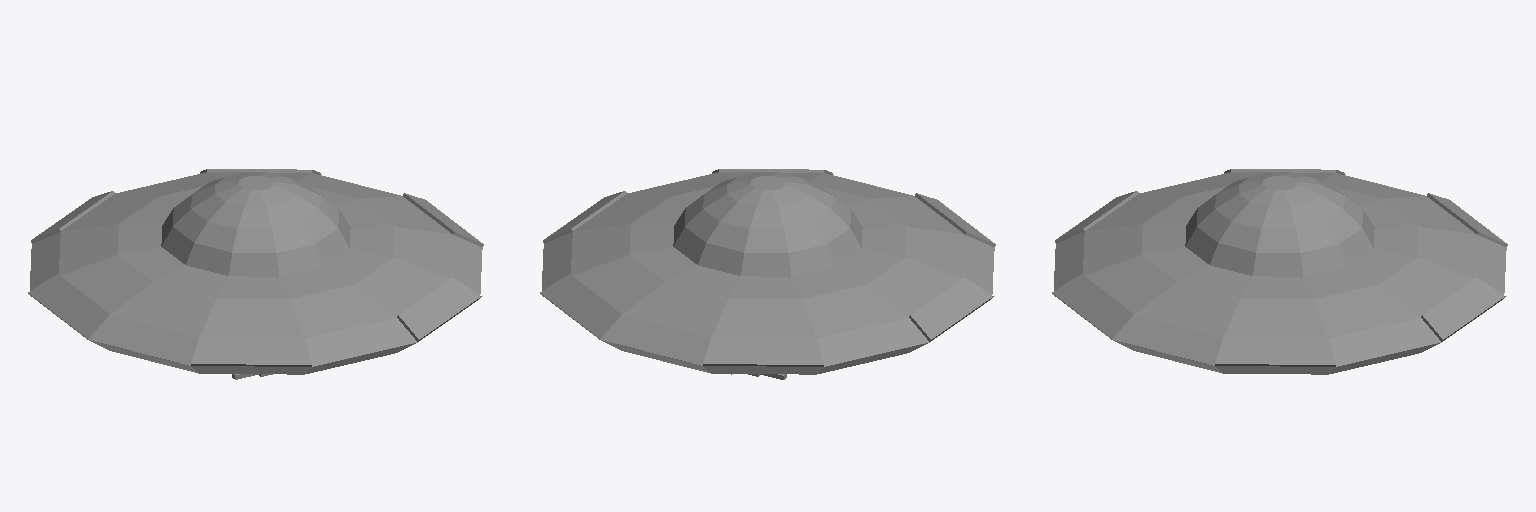
Rendered from UFO.obj.
3 renders of one model, left to right at view 1: azimuth 30°, elevation 25°; view 2: azimuth 150°, elevation 25°; view 3: azimuth 270°, elevation 25°, orthographic.
Parts seen in each view (by area): view 1: UFOCollapsed; view 2: UFOCollapsed; view 3: UFOCollapsed.
Part boxes in pixels (bbox=[...]): UFOCollapsed: bbox=[28, 169, 483, 379]; UFOCollapsed: bbox=[540, 169, 995, 379]; UFOCollapsed: bbox=[1052, 169, 1507, 374].
Bounding box in the file's own units: 1.57 × 0.5519 × 1.56.